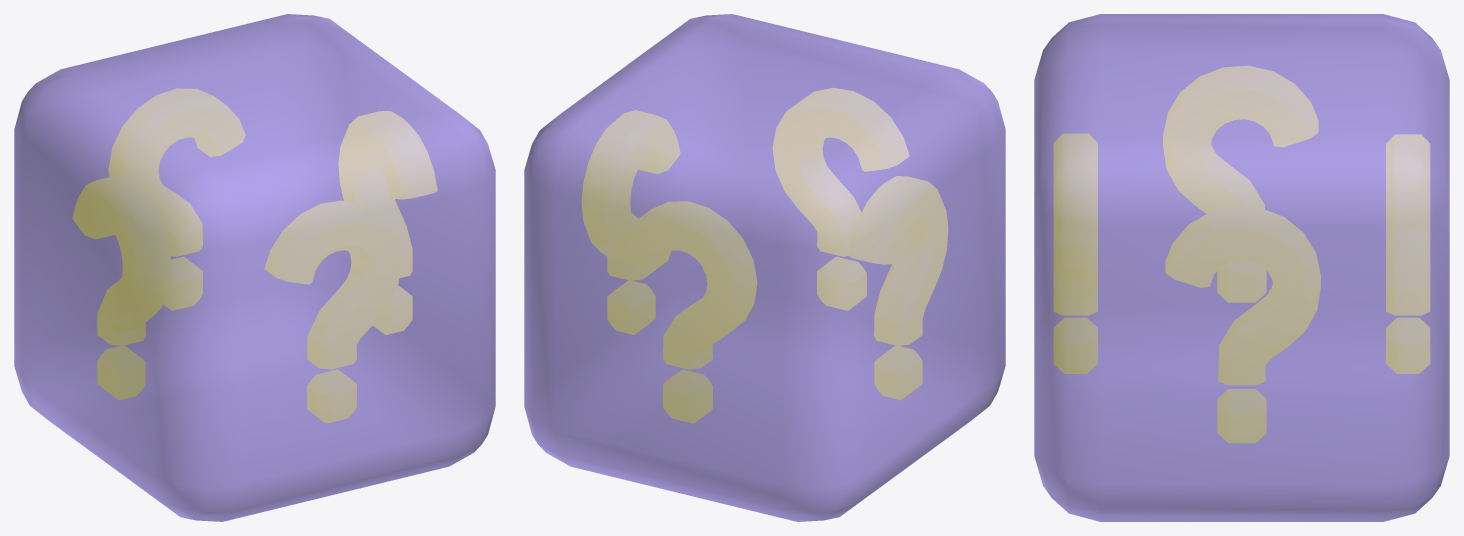
File: item_box_v2.glb
The picture shows the model from 3 angles, left to right: view 1: azimuth 30°, elevation 25°; view 2: azimuth 150°, elevation 25°; view 3: azimuth 270°, elevation 25°; orthographic projection. The views are drawn at different scales.
Parts seen in each view (by area): view 1: item_box_v2; view 2: item_box_v2; view 3: item_box_v2.
Part boxes in pixels (x1,y1,x2,y2): item_box_v2: [14, 14, 495, 521]; item_box_v2: [524, 14, 1005, 521]; item_box_v2: [1034, 14, 1449, 521].
Bounding box in the file's own units: 1.5 × 1.5 × 1.5.
